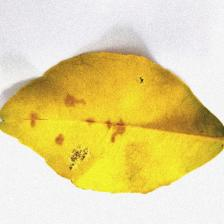canker: (18, 77, 134, 177)
